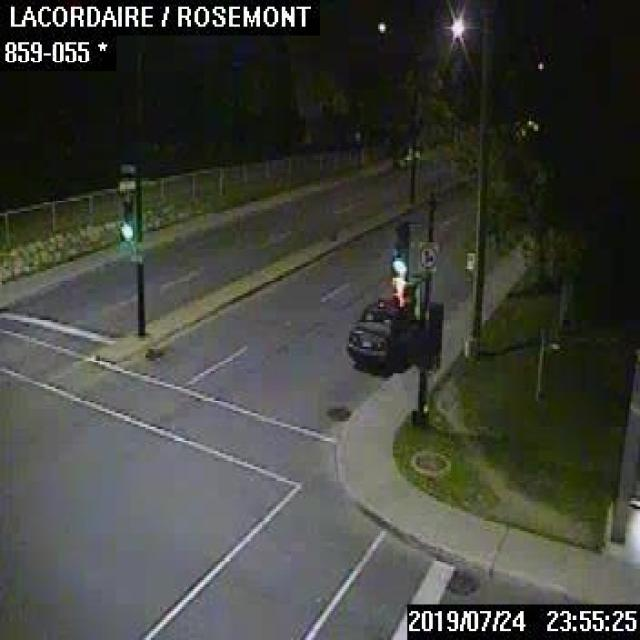vehicle: (346, 298, 426, 368)
